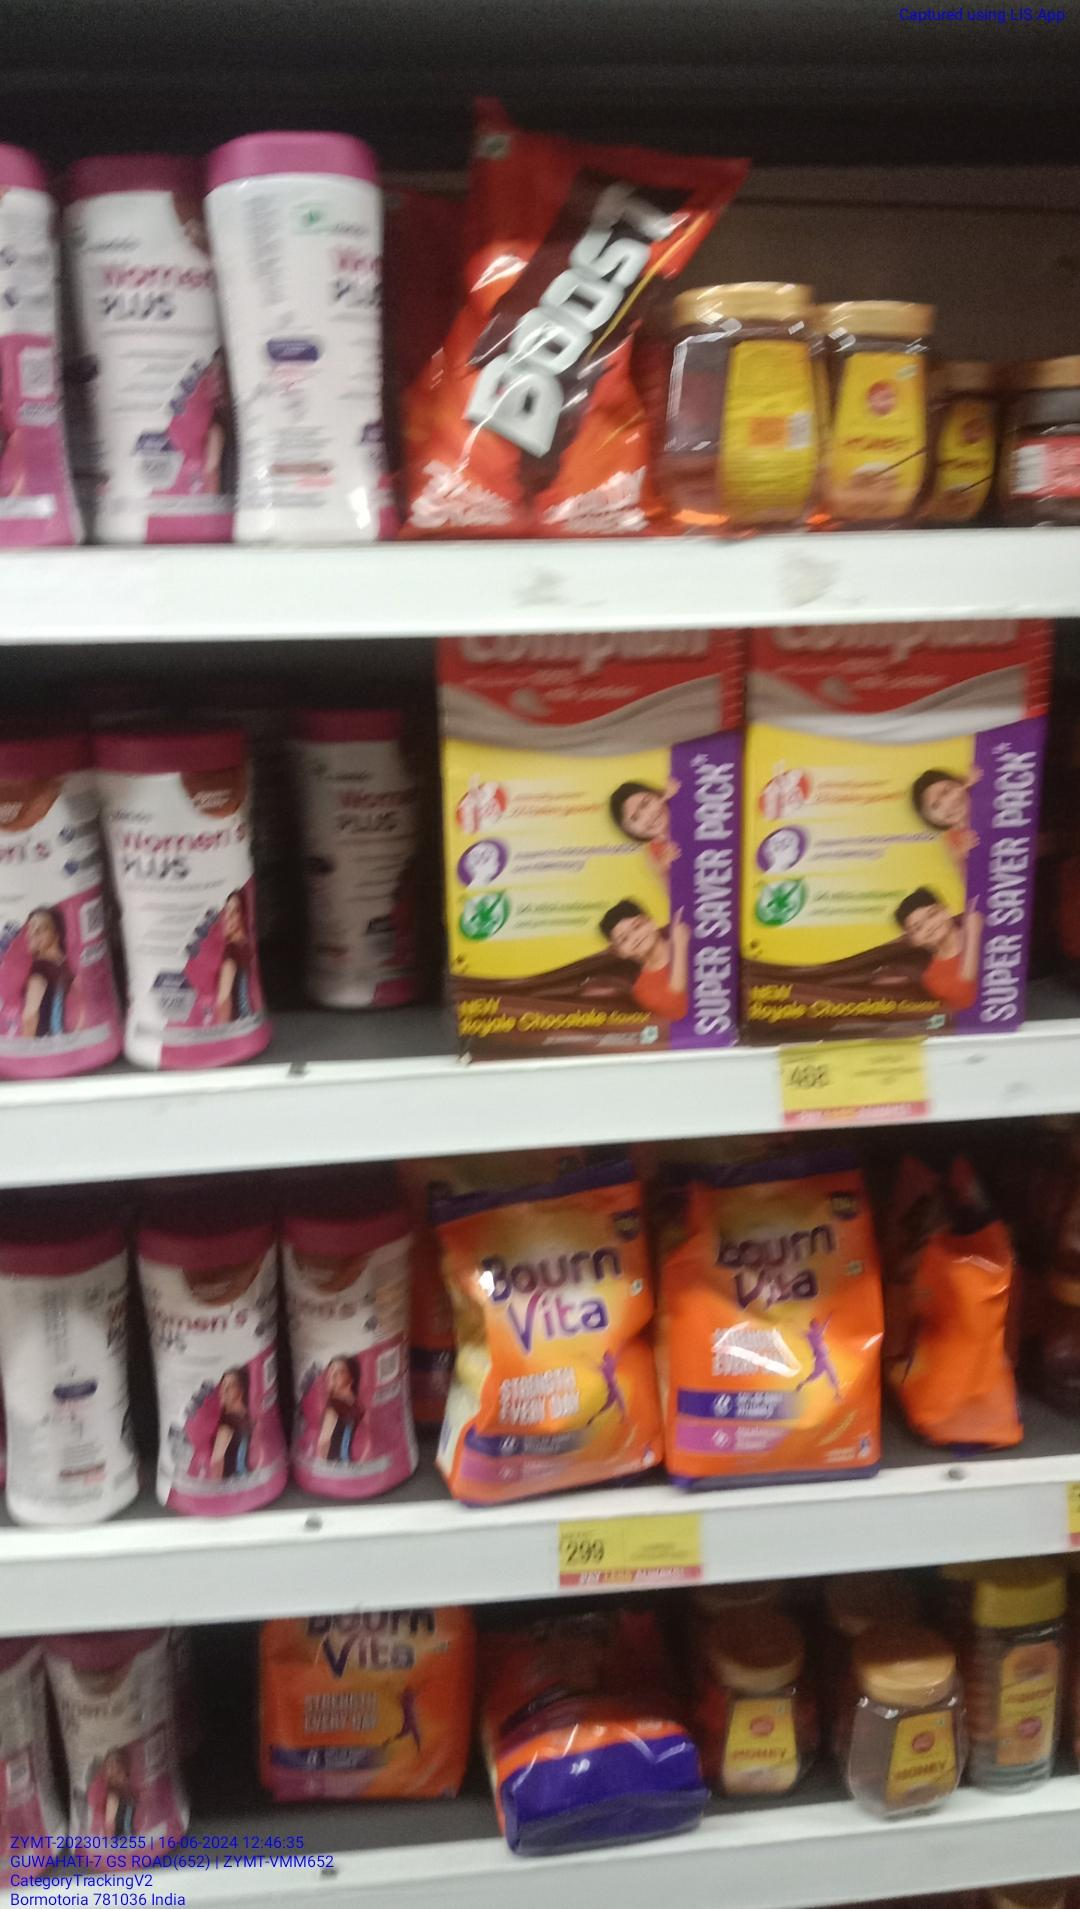BOURN_VITA_750_G_POUCH: (663, 1179, 870, 1476), (455, 1191, 658, 1489)
COMPLAN_CHOCOLATE_1_KG_PACK: (741, 628, 1034, 1031), (448, 641, 733, 1052)
